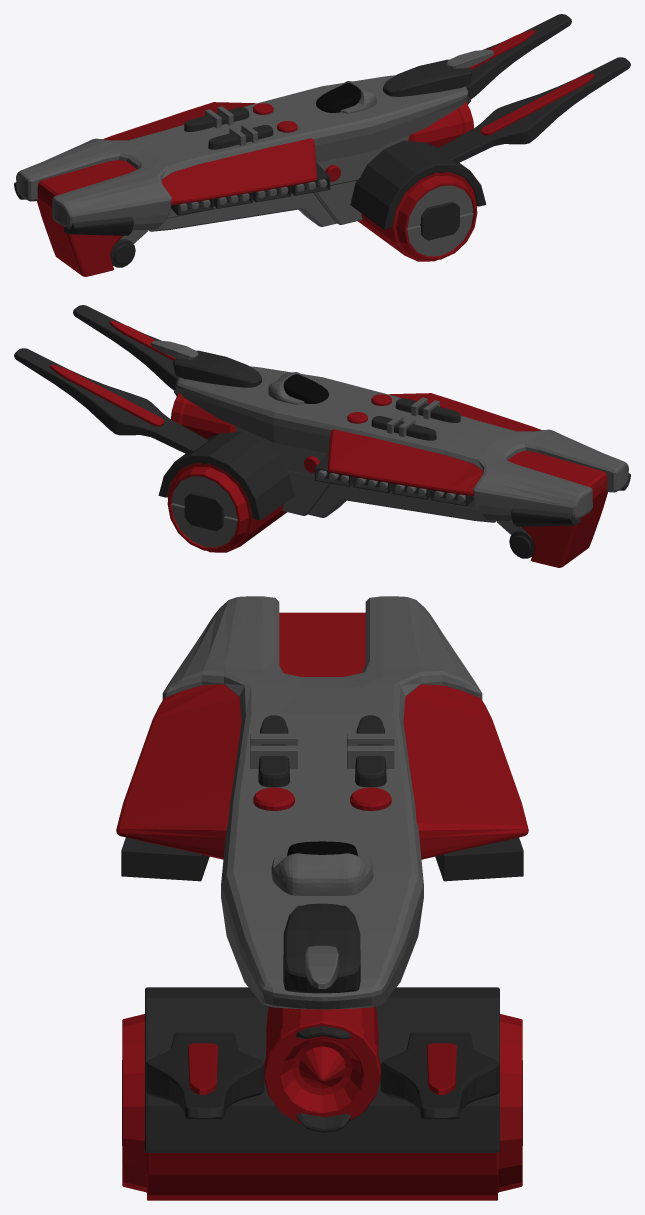
Rendered from fga_corvette4_r.glb.
The picture shows the model from 3 angles, top to bottom: view 1: azimuth 30°, elevation 25°; view 2: azimuth 150°, elevation 25°; view 3: azimuth 270°, elevation 25°; orthographic projection. The views are drawn at different scales.
Visible parts, largest first — view 1: Corvette_04; view 2: Corvette_04; view 3: Corvette_04.
Part boxes in pixels (<box>): Corvette_04: <box>14,14,630,276</box>; Corvette_04: <box>14,305,630,567</box>; Corvette_04: <box>116,596,528,1200</box>.
Size of the model in its own units: 3592 by 951 by 1147.
1 material, 1 textured.
